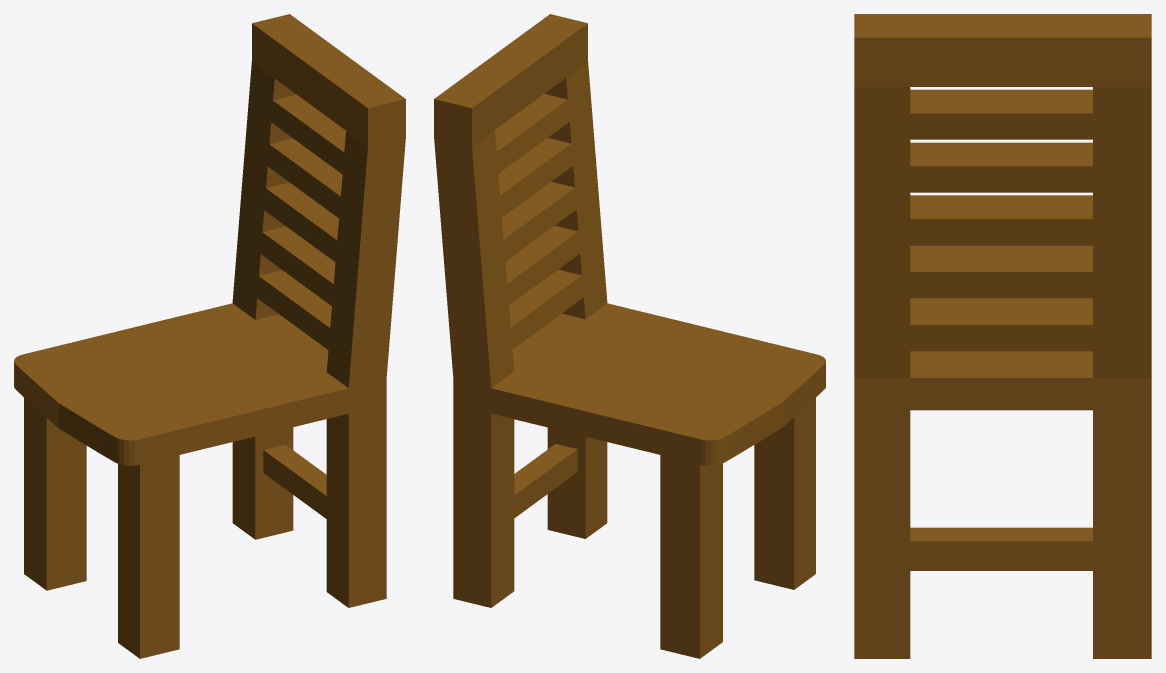
The model's file is simplechair (1).fbx.
The picture shows the model from 3 angles, left to right: view 1: azimuth 30°, elevation 25°; view 2: azimuth 150°, elevation 25°; view 3: azimuth 270°, elevation 25°; orthographic projection. The views are drawn at different scales.
Visible parts, largest first — view 1: Cube, Cube.001; view 2: Cube, Cube.001; view 3: Cube, Cube.001.
Boxes of the visible parts, x1=… form: Cube: x1=14, y1=14, x2=405, y2=658; Cube.001: x1=263, y1=444, x2=326, y2=518; Cube: x1=434, y1=14, x2=825, y2=658; Cube.001: x1=514, y1=444, x2=577, y2=517; Cube: x1=854, y1=14, x2=1151, y2=658; Cube.001: x1=910, y1=527, x2=1092, y2=570.
Size of the model in its own units: 730 by 1191 by 506.
